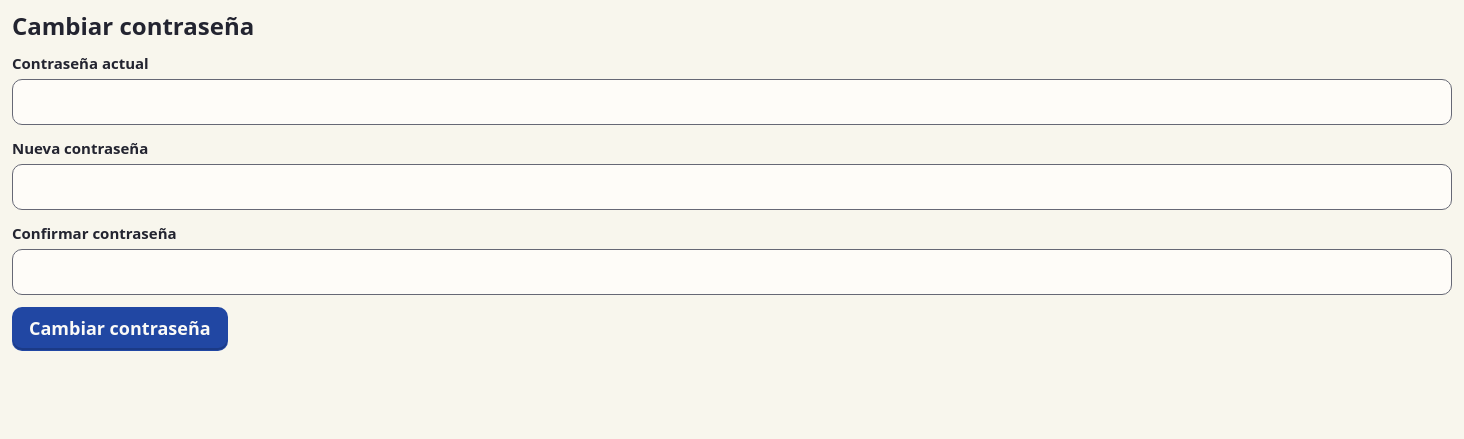
it: 400 con la contraseña actual incorrecta muestra el mensaje del servidor
The width and height of the screenshot is (1464, 439).
Type "actual-equivocada" into the password field labelled "Contraseña actual" at (732, 102), box [12,79,1452,125]
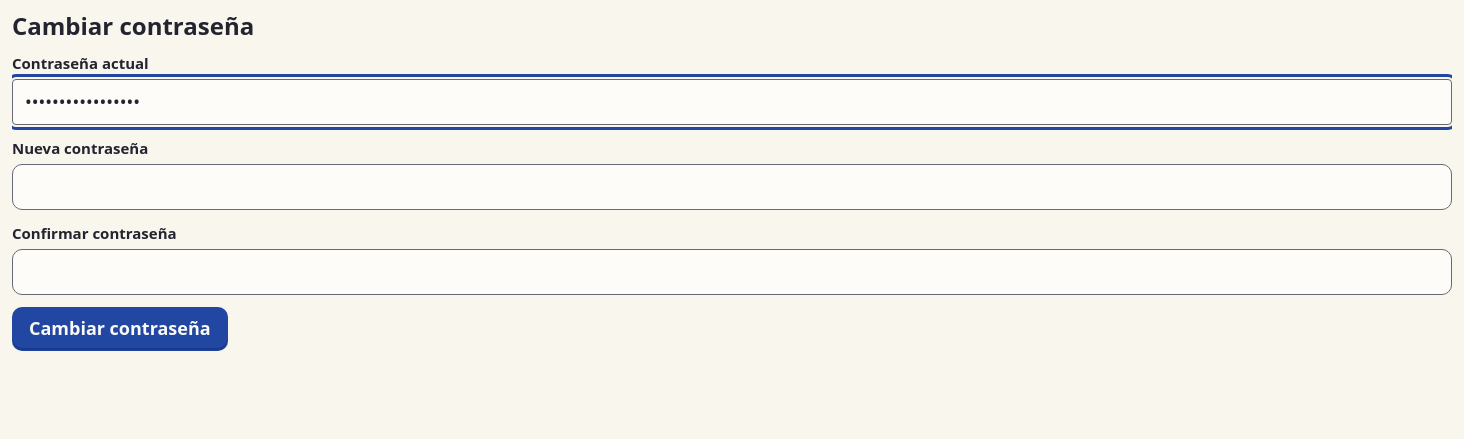
Type "nueva-larga-12" into the password field labelled "Nueva contraseña" at (732, 187), box [12,164,1452,210]
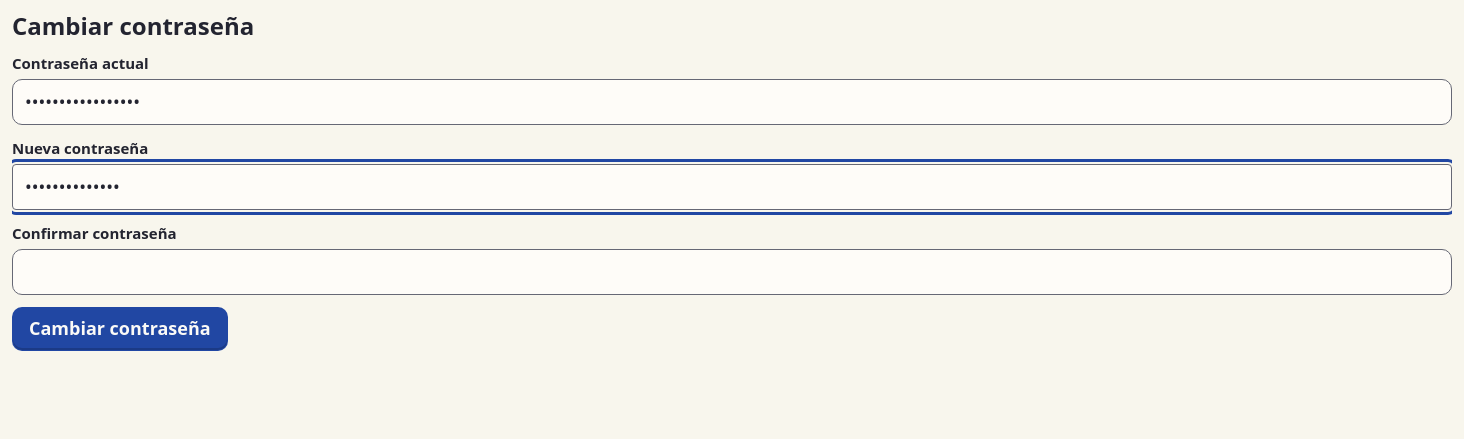
Type "nueva-larga-12" into the password field labelled "Confirmar contraseña" at (732, 272), box [12,249,1452,295]
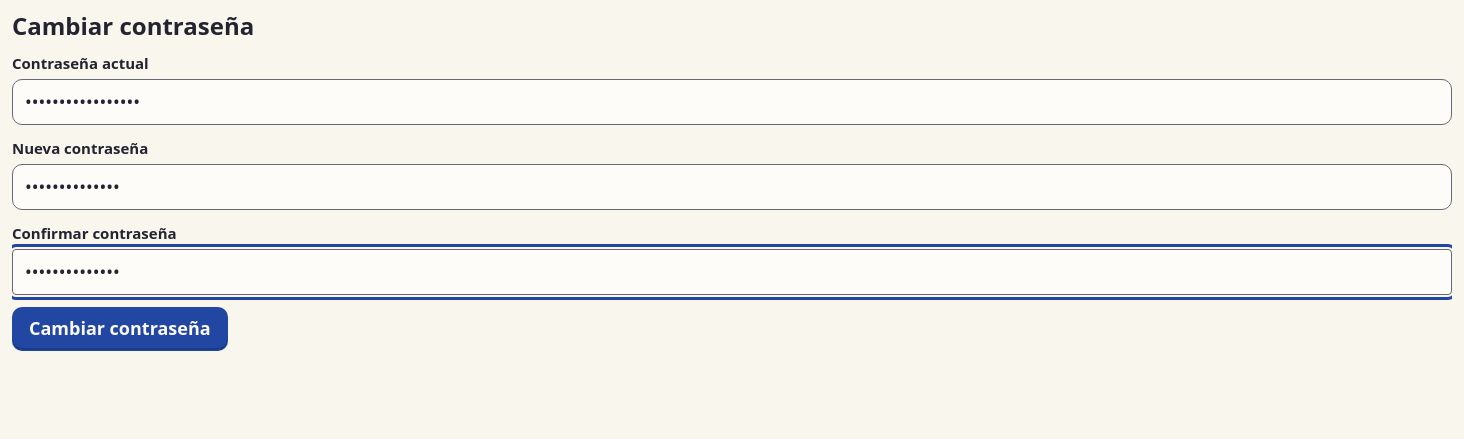
Click the button "Cambiar contraseña" at (120, 329), box [12,307,228,351]
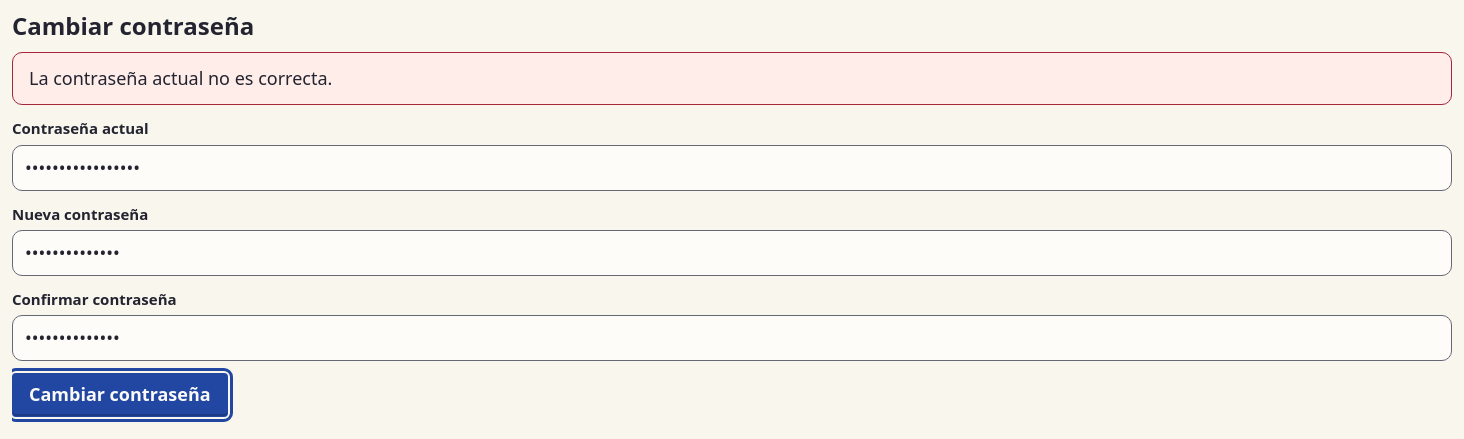
Expected: the message reads "La contraseña actual no es correcta.", [29,66,332,90]
